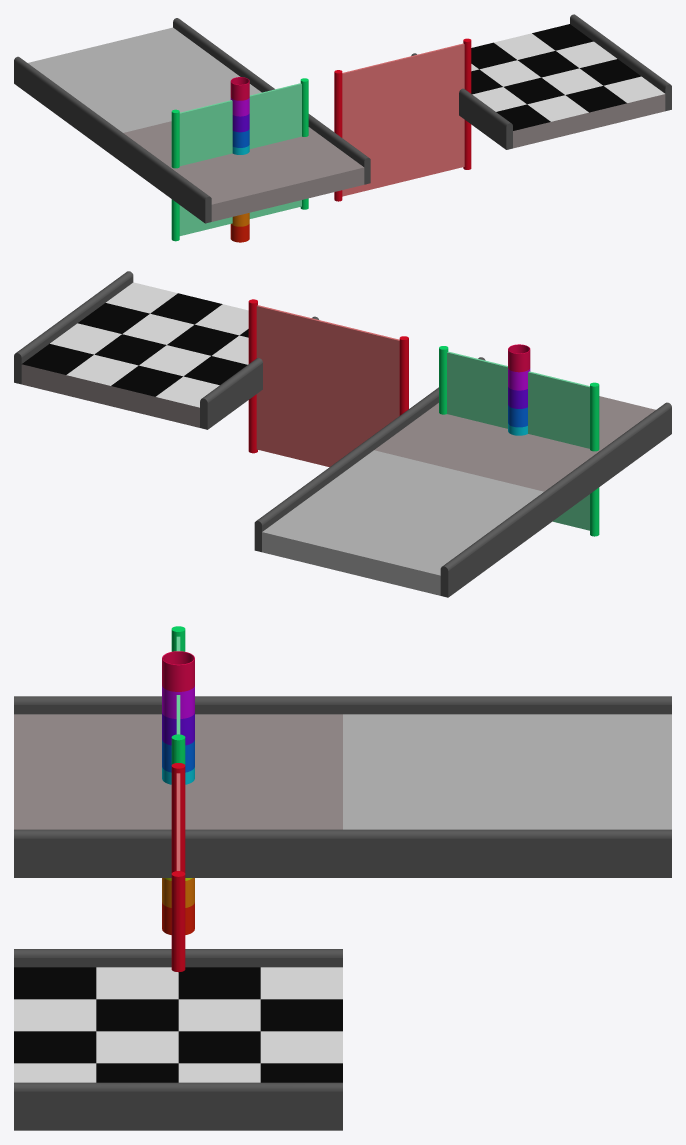
Rendered from pingpong.fbx.
The picture shows the model from 3 angles, top to bottom: view 1: azimuth 30°, elevation 25°; view 2: azimuth 150°, elevation 25°; view 3: azimuth 270°, elevation 25°; orthographic projection. The views are drawn at different scales.
Visible parts, largest first — view 1: platform, finish_platform, gate_negative, gate_positive, glass; view 2: platform, finish_platform, gate_negative, gate_positive, glass; view 3: platform, finish_platform, glass, gate_negative, gate_positive.
Part boxes in pixels (bbox=[...]): platform: bbox=[14, 18, 370, 223]; finish_platform: bbox=[411, 14, 671, 149]; gate_negative: bbox=[334, 38, 471, 201]; gate_positive: bbox=[171, 78, 308, 241]; glass: bbox=[230, 77, 249, 242]; platform: bbox=[254, 357, 671, 597]; finish_platform: bbox=[14, 271, 318, 429]; gate_negative: bbox=[248, 299, 408, 466]; gate_positive: bbox=[439, 346, 599, 536]; glass: bbox=[508, 344, 530, 435]; platform: bbox=[14, 696, 671, 877]; finish_platform: bbox=[14, 949, 342, 1130]; glass: bbox=[162, 651, 194, 934]; gate_negative: bbox=[171, 763, 185, 972]; gate_positive: bbox=[171, 626, 185, 764].
Bounding box in the file's own units: 5637 × 1818 × 4000.
